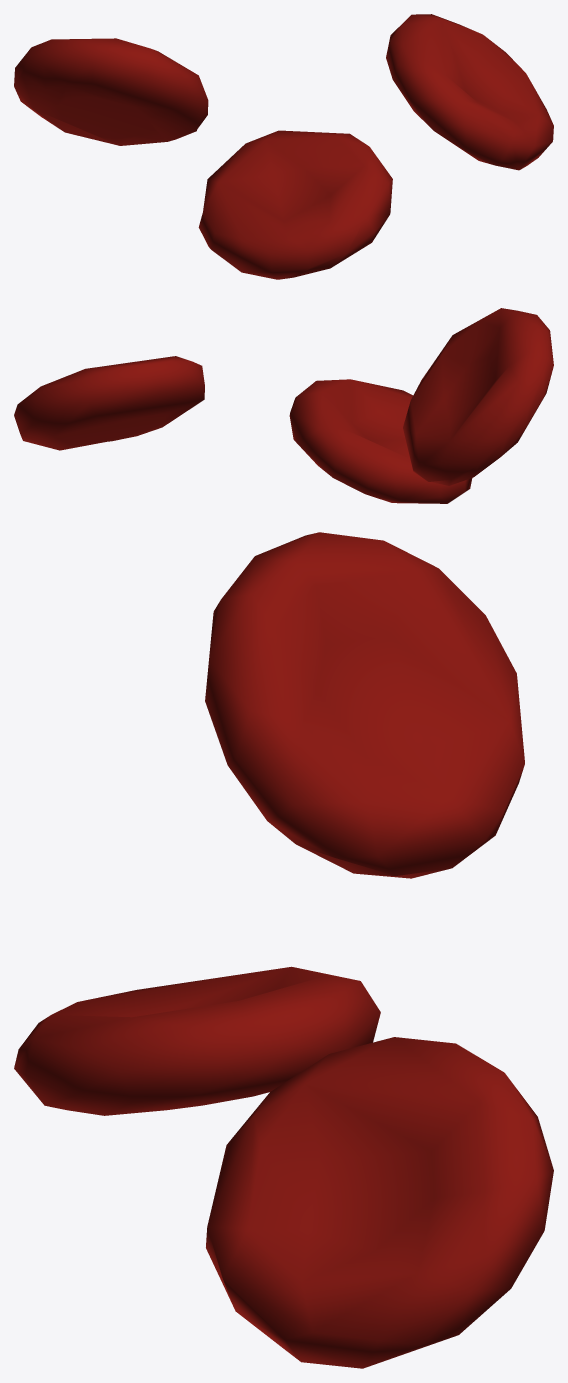
File: PRP_RBC_lod.glb
The picture shows the model from 3 angles, top to bottom: view 1: azimuth 30°, elevation 25°; view 2: azimuth 150°, elevation 25°; view 3: azimuth 270°, elevation 25°; orthographic projection. The views are drawn at different scales.
Visible parts, largest first — view 1: Torus.002_0; view 2: Torus.002_0; view 3: Torus.002_0.
Boxes of the visible parts, x1,y1,x2,y2 form: Torus.002_0: (14,14,553,279); Torus.002_0: (14,308,553,503); Torus.002_0: (14,532,553,1368).
Bounding box in the file's own units: 1.36 × 0.5789 × 0.6634.
